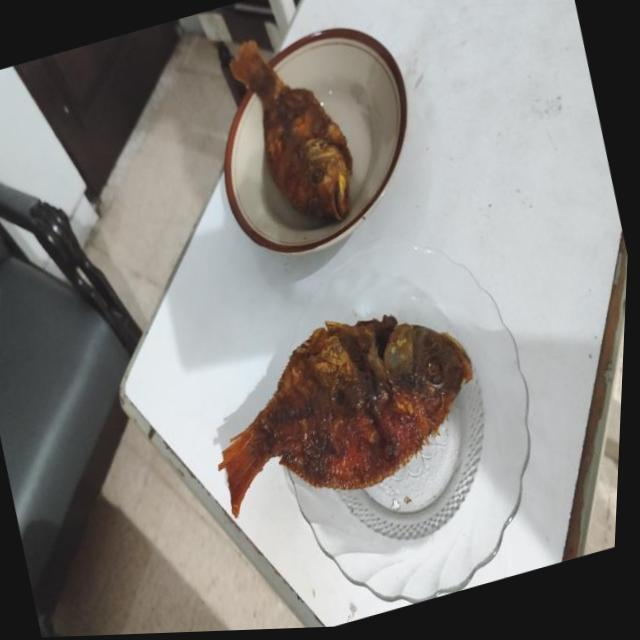ikan_mujair: (218, 314, 472, 516), (228, 39, 352, 220)
